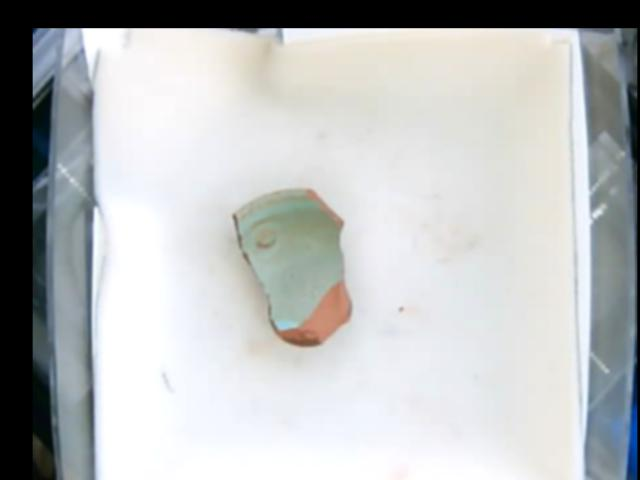China: (236, 187, 348, 344)
